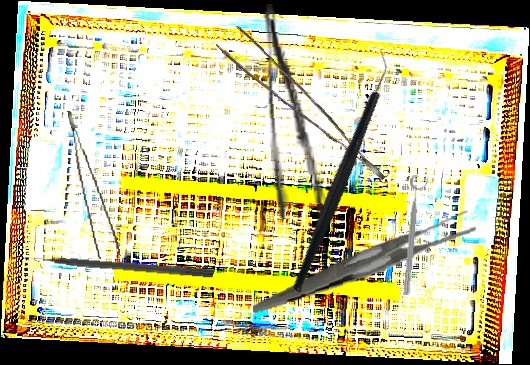Chopper: (219, 46, 459, 294)
Dressing Forceps: (247, 209, 481, 314), (260, 1, 327, 220)
Fixation Ring: (400, 174, 430, 297)
Pusher: (20, 250, 215, 279)
Tissue Forceps: (215, 17, 386, 205), (67, 106, 121, 261)
